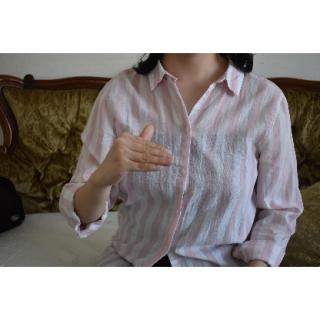KHAA: (90, 120, 176, 190)
